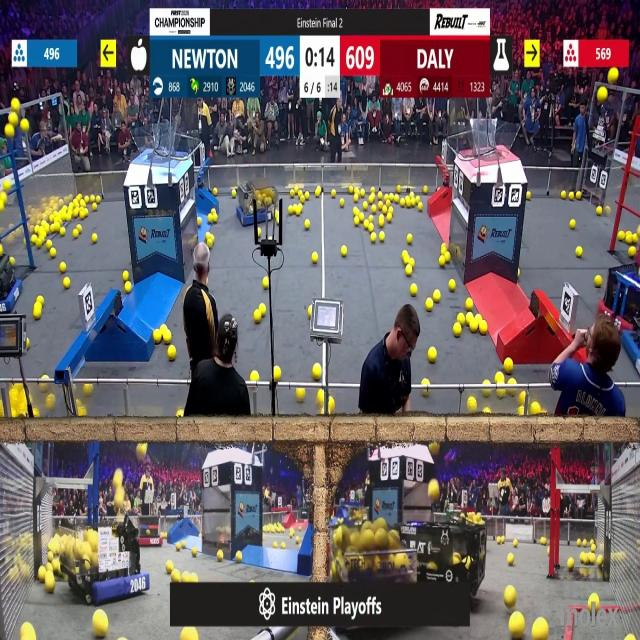ball_airborne: (511, 615, 525, 640), (428, 480, 438, 498), (113, 472, 123, 488), (115, 489, 124, 505), (137, 444, 147, 458), (4, 125, 14, 138), (608, 68, 617, 82), (598, 89, 607, 103), (429, 443, 438, 457), (8, 112, 18, 124), (21, 119, 30, 131), (11, 99, 19, 111), (4, 179, 10, 191), (126, 500, 133, 510), (0, 203, 5, 214), (0, 191, 6, 200)
ball_ground: (95, 612, 108, 639), (504, 587, 515, 608), (22, 624, 36, 640), (182, 628, 196, 640), (45, 577, 54, 594), (313, 363, 322, 378), (503, 358, 512, 372), (467, 397, 476, 411), (168, 346, 176, 361), (428, 348, 436, 363), (296, 388, 304, 402), (34, 306, 42, 320), (172, 570, 181, 582), (274, 365, 282, 378), (164, 332, 172, 345), (432, 289, 440, 302), (38, 567, 45, 581), (465, 300, 473, 312), (480, 322, 488, 334), (166, 560, 174, 572), (253, 312, 261, 324), (531, 404, 539, 416), (454, 323, 461, 336), (317, 390, 324, 403), (188, 572, 197, 582), (154, 333, 161, 345), (496, 373, 504, 383), (250, 372, 258, 382), (595, 276, 602, 287), (426, 300, 433, 311), (126, 282, 133, 293), (207, 237, 214, 248), (469, 322, 476, 333), (589, 554, 596, 565), (237, 552, 243, 564), (507, 554, 513, 566), (567, 558, 573, 570), (520, 392, 526, 404), (402, 252, 408, 264), (77, 409, 85, 418), (458, 313, 465, 323), (466, 313, 473, 323), (629, 247, 636, 257), (619, 232, 626, 242), (412, 284, 418, 295), (64, 278, 70, 289), (264, 278, 270, 289), (450, 280, 456, 291), (122, 271, 128, 282), (342, 244, 348, 255), (407, 267, 413, 278), (626, 233, 632, 244), (596, 207, 603, 216), (37, 295, 44, 304), (576, 247, 582, 257), (312, 252, 318, 262), (217, 552, 223, 562), (49, 248, 55, 258), (61, 264, 67, 274), (370, 234, 376, 244), (380, 216, 386, 226), (259, 304, 265, 314), (295, 205, 301, 215), (328, 396, 333, 408), (80, 209, 86, 219), (579, 554, 585, 564), (275, 210, 281, 220), (406, 200, 412, 210), (33, 410, 39, 420), (589, 600, 594, 612), (297, 192, 303, 202), (422, 379, 429, 387), (177, 411, 184, 419), (484, 390, 491, 398), (510, 378, 518, 385), (591, 594, 598, 602), (93, 235, 99, 244), (570, 219, 576, 228), (362, 202, 368, 211), (288, 206, 294, 215), (632, 235, 638, 244), (518, 408, 524, 417), (378, 201, 384, 210), (446, 253, 452, 262), (47, 553, 53, 562), (380, 232, 385, 242), (408, 235, 413, 245), (441, 255, 446, 265), (387, 214, 393, 222), (330, 189, 336, 197), (367, 222, 373, 230), (526, 190, 532, 198), (568, 190, 574, 198), (363, 220, 369, 228), (368, 194, 374, 202), (540, 536, 546, 544), (367, 215, 373, 223), (424, 387, 430, 395), (498, 390, 504, 398), (76, 224, 82, 232), (90, 194, 96, 202), (49, 223, 55, 231), (385, 201, 391, 209), (354, 216, 359, 225), (418, 203, 423, 212), (61, 226, 66, 235), (410, 256, 415, 265), (394, 193, 399, 202), (500, 538, 505, 547), (474, 313, 479, 322), (208, 215, 214, 222), (212, 188, 218, 195), (341, 200, 346, 208), (561, 190, 566, 198), (195, 217, 200, 225), (575, 190, 580, 198), (316, 188, 321, 196), (46, 240, 51, 248), (192, 548, 196, 558), (370, 206, 375, 214), (596, 599, 600, 609), (353, 194, 358, 202), (309, 307, 313, 317), (383, 207, 388, 215), (379, 192, 384, 200), (32, 236, 37, 244), (306, 191, 311, 199), (400, 199, 404, 208), (36, 242, 42, 248), (485, 409, 491, 415), (73, 232, 78, 239), (353, 208, 358, 215), (514, 539, 519, 546), (211, 208, 216, 215), (485, 380, 490, 387), (289, 190, 294, 197), (442, 247, 447, 254), (306, 220, 310, 228), (424, 185, 428, 193), (359, 213, 363, 221), (576, 538, 580, 546), (416, 194, 420, 202), (628, 635, 634, 640), (94, 205, 98, 212), (233, 190, 237, 197), (97, 195, 101, 202), (384, 193, 388, 200), (360, 189, 364, 196), (396, 185, 400, 192), (295, 536, 299, 543), (257, 230, 261, 237), (177, 541, 180, 549), (274, 541, 278, 547), (282, 542, 286, 548), (27, 340, 30, 348), (320, 411, 324, 416), (250, 578, 254, 583)
goal: (464, 123, 522, 159), (130, 131, 188, 160)
robot_blue: (96, 526, 148, 600), (236, 177, 278, 225), (625, 266, 640, 368), (0, 253, 22, 313)
robot_red: (604, 512, 640, 635), (136, 515, 164, 547)
